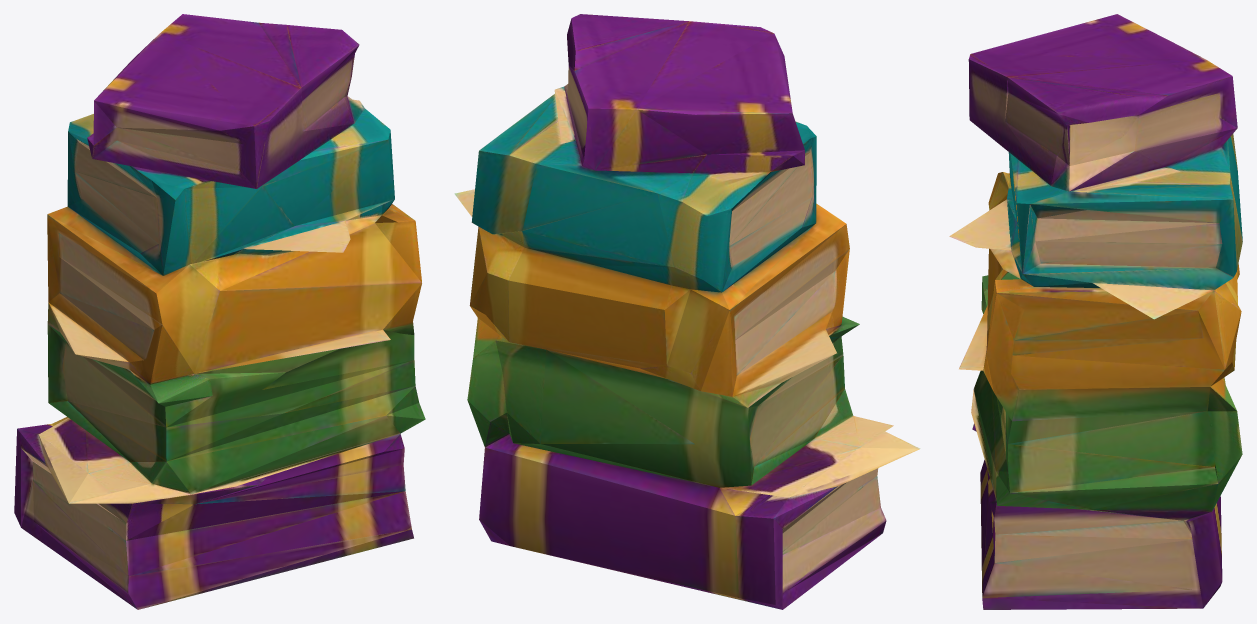
File: pilha-de-livros.glb
3 renders of one model, left to right at view 1: azimuth 30°, elevation 25°; view 2: azimuth 150°, elevation 25°; view 3: azimuth 270°, elevation 25°, orthographic. The views are drawn at different scales.
Visible parts, largest first — view 1: Mesh_0; view 2: Mesh_0; view 3: Mesh_0.
Boxes of the visible parts, box(x1,y1,x2,y2) form: Mesh_0: box(14, 14, 425, 609); Mesh_0: box(454, 14, 920, 609); Mesh_0: box(949, 14, 1242, 609).
Size of the model in its own units: 1.61 by 1.89 by 1.02.
Materials: 1 (1 with a texture image).
